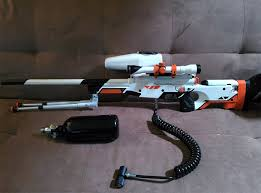gun: (2, 50, 260, 112)
